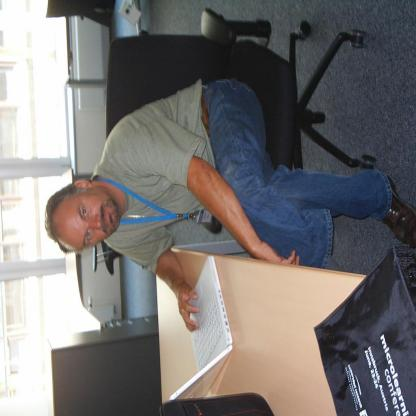board: (170, 256, 232, 400)
